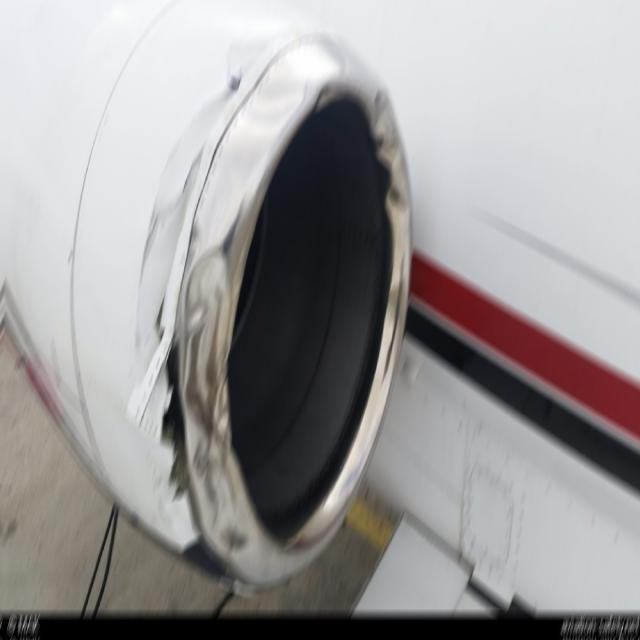dent: (184, 250, 253, 549), (196, 148, 267, 242), (241, 61, 314, 133), (375, 89, 410, 209)
